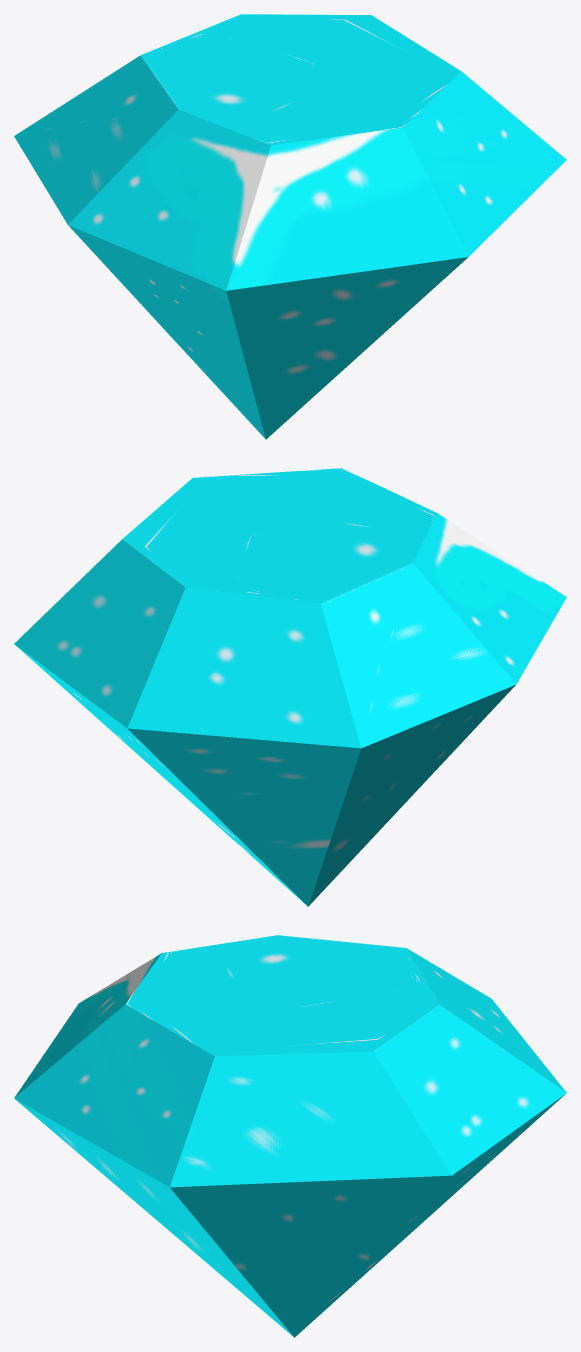
Rendered from diamond.fbx.
3 renders of one model, top to bottom at view 1: azimuth 30°, elevation 25°; view 2: azimuth 150°, elevation 25°; view 3: azimuth 270°, elevation 25°, orthographic.
Parts seen in each view (by area): view 1: Cube; view 2: Cube; view 3: Cube.
Boxes of the visible parts, x1,y1,x2,y2 form: Cube: (14,14,566,439); Cube: (14,468,566,906); Cube: (14,935,566,1337).
Size of the model in its own units: 334 by 262 by 367.
Materials: 1 (1 with a texture image).
